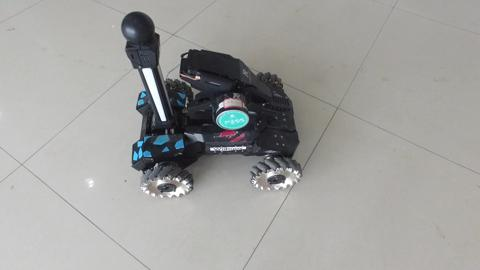chariot: (98, 17, 320, 192)
